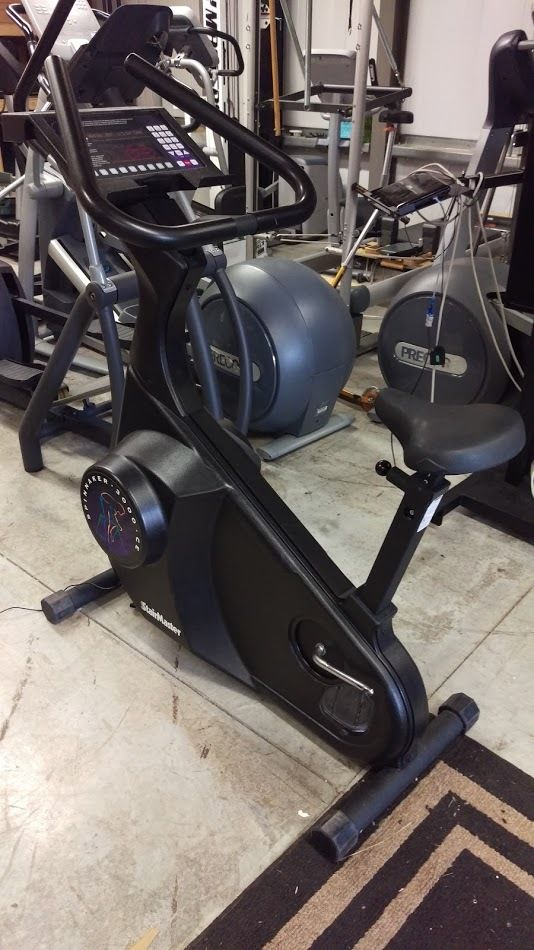gym_bike: (40, 60, 500, 808)
